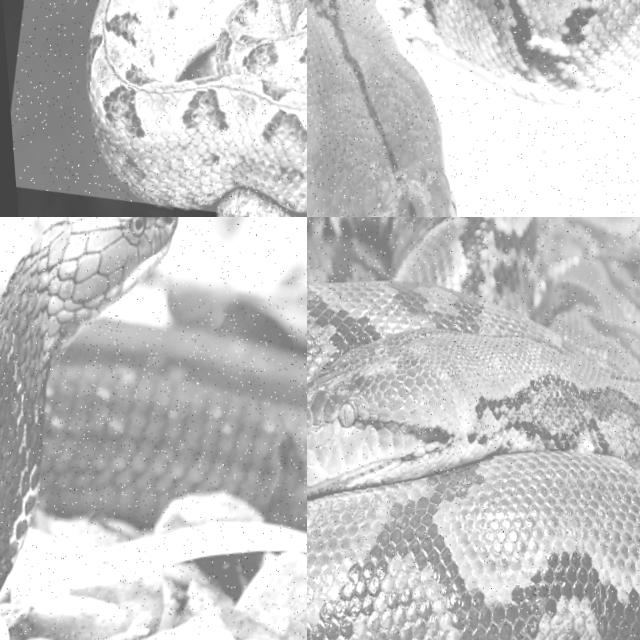Calloselasma rhodostoma: (87, 0, 306, 211)
Malayopython reticulatus: (307, 217, 639, 639), (307, 0, 639, 216)
Ophiophagus hannah: (0, 217, 306, 588)
